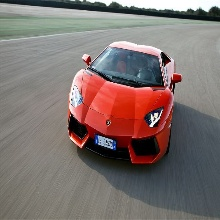no damage: (66, 40, 183, 166)
